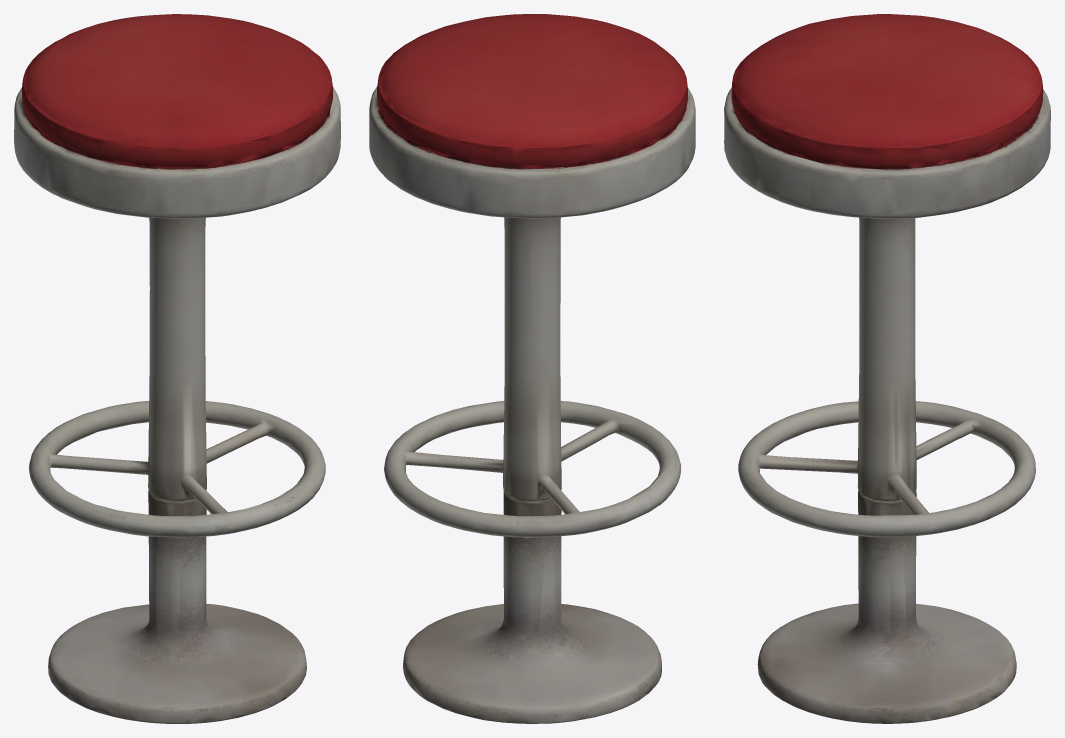
File: cantina_stool.glb
The picture shows the model from 3 angles, left to right: view 1: azimuth 30°, elevation 25°; view 2: azimuth 150°, elevation 25°; view 3: azimuth 270°, elevation 25°; orthographic projection.
Visible parts, largest first — view 1: tripo_node_228212c1-8cff-4c5d-986b-cbd97cbec2d6; view 2: tripo_node_228212c1-8cff-4c5d-986b-cbd97cbec2d6; view 3: tripo_node_228212c1-8cff-4c5d-986b-cbd97cbec2d6.
Boxes of the visible parts, bbox=[...] form: tripo_node_228212c1-8cff-4c5d-986b-cbd97cbec2d6: bbox=[14, 14, 340, 723]; tripo_node_228212c1-8cff-4c5d-986b-cbd97cbec2d6: bbox=[369, 14, 695, 723]; tripo_node_228212c1-8cff-4c5d-986b-cbd97cbec2d6: bbox=[724, 14, 1050, 723].
Bounding box in the file's own units: 0.4894 × 1 × 0.4885.
Materials: 1 (1 with a texture image).
